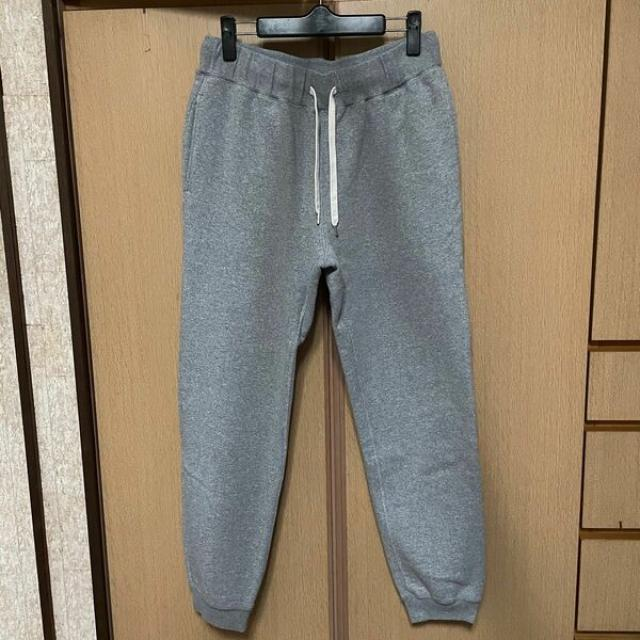long-pants: (180, 29, 486, 633)
